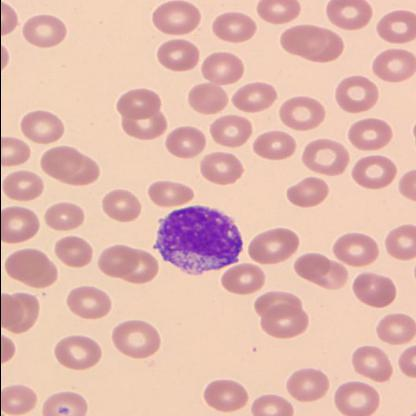Promyelocyte: (150, 206, 242, 275)
